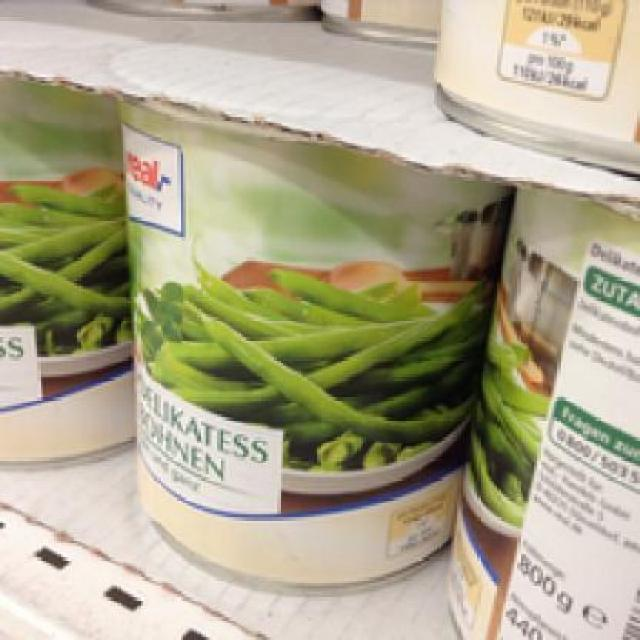Beans: (106, 86, 474, 600)
